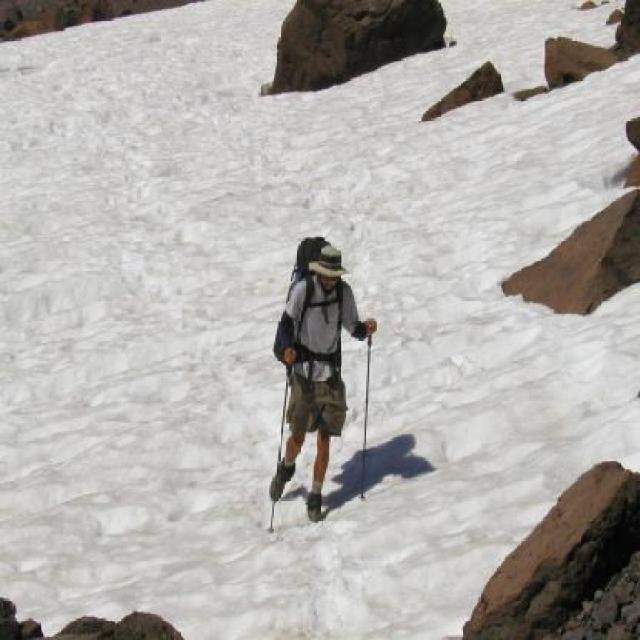backpack: (288, 232, 329, 278)
